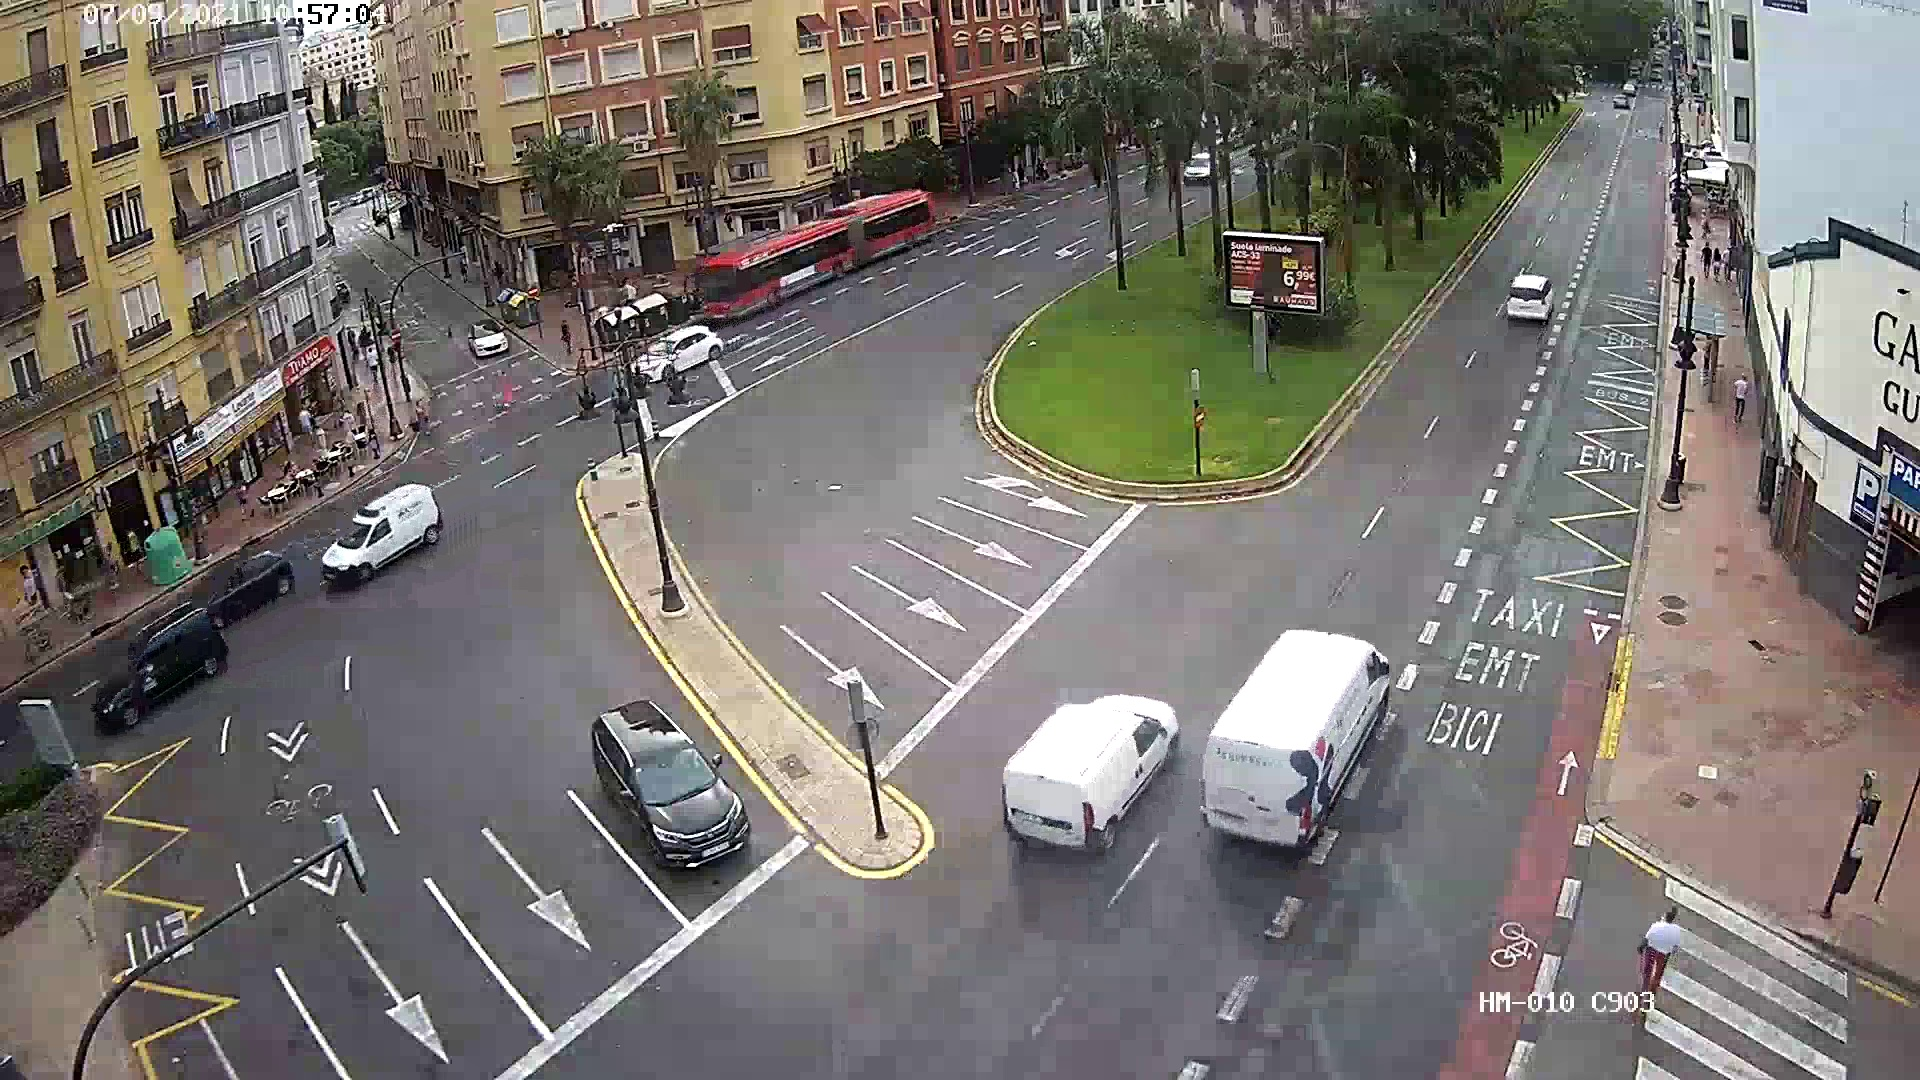Cars: (1205, 615, 1375, 844), (563, 686, 746, 868), (1004, 688, 1168, 841), (105, 618, 222, 728), (320, 510, 454, 582), (182, 564, 295, 626), (1485, 268, 1582, 324), (460, 307, 522, 357)
